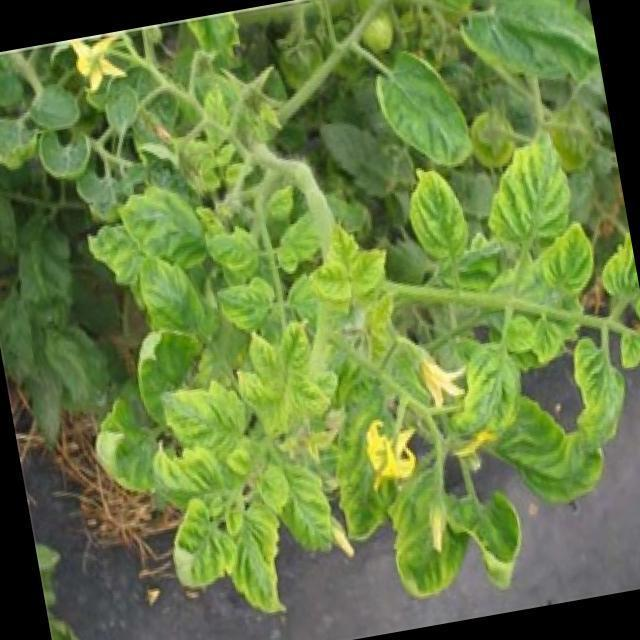Yellow Curl Virus: (480, 125, 580, 252), (372, 49, 476, 171), (234, 319, 336, 441), (442, 337, 526, 442), (220, 504, 292, 619), (304, 221, 394, 306), (401, 159, 475, 262), (151, 376, 246, 454), (566, 330, 632, 442), (270, 458, 338, 556), (533, 212, 601, 304), (208, 276, 282, 334), (596, 229, 640, 305), (198, 224, 262, 274)
